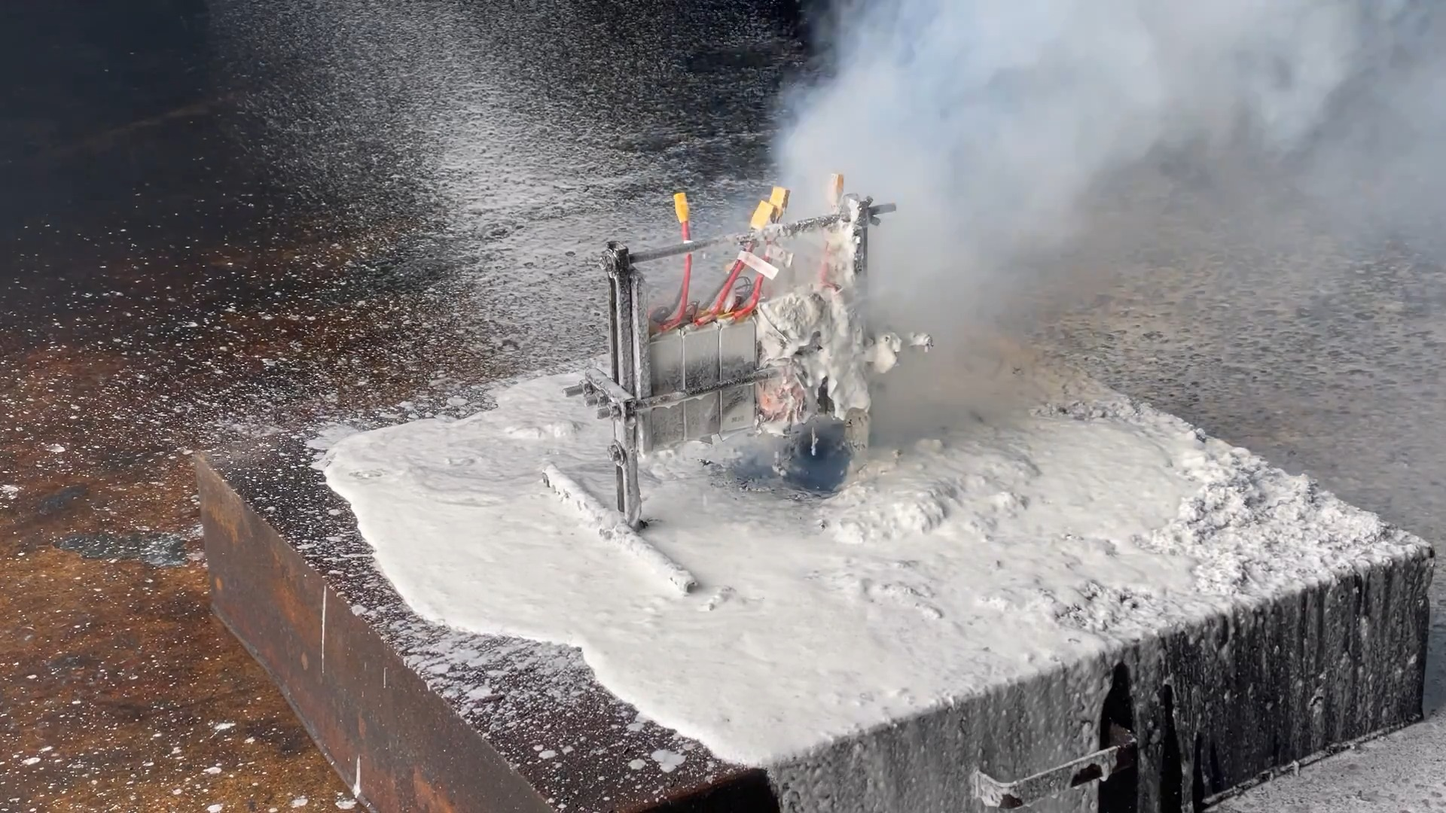smoke: (761, 0, 1445, 426)
